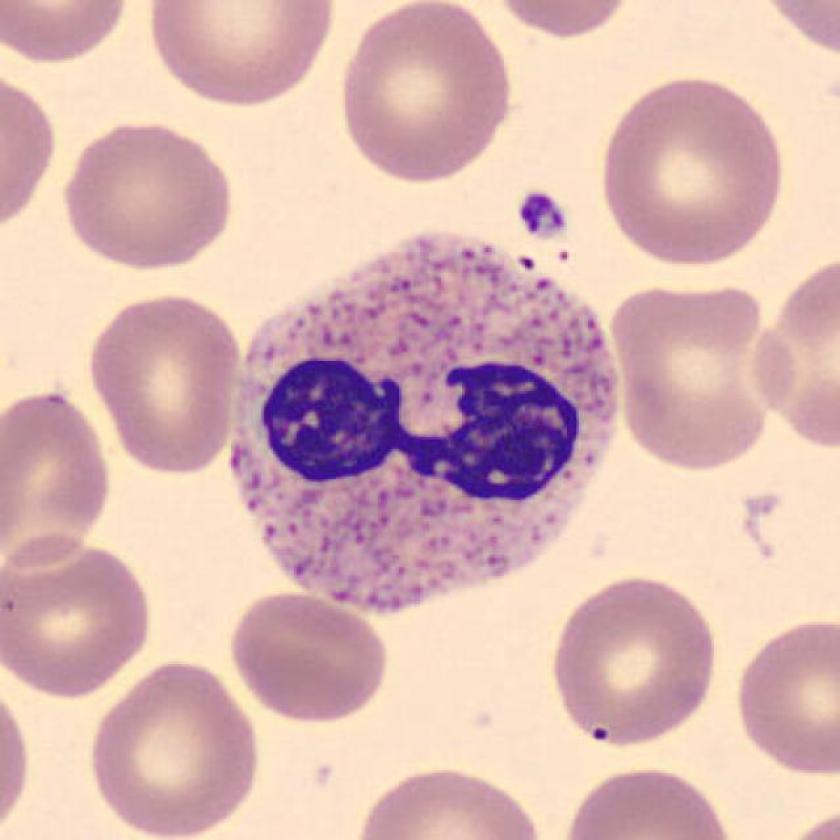neutrophil: (229, 235, 618, 614)
